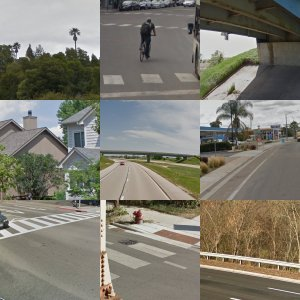煙囪: (22, 110, 41, 133)
腳踏車: (132, 11, 161, 62)
行人穿越道: (103, 65, 195, 88), (107, 240, 169, 273), (27, 209, 78, 227)
